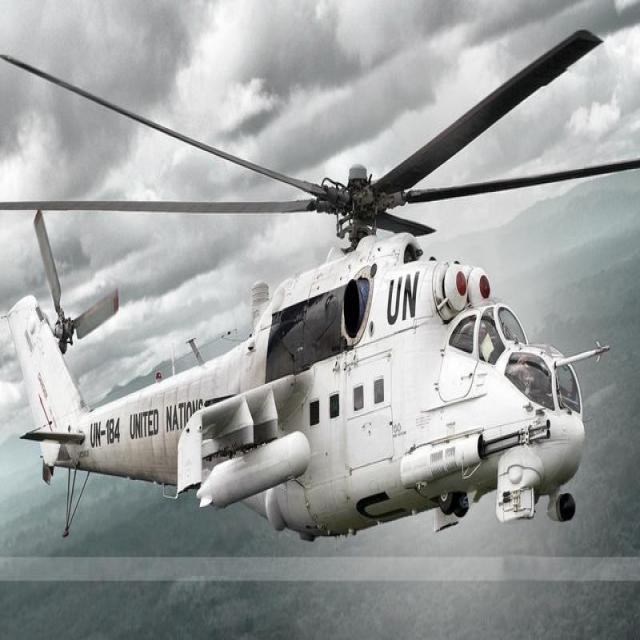MIL_HELO: (1, 28, 640, 545)
